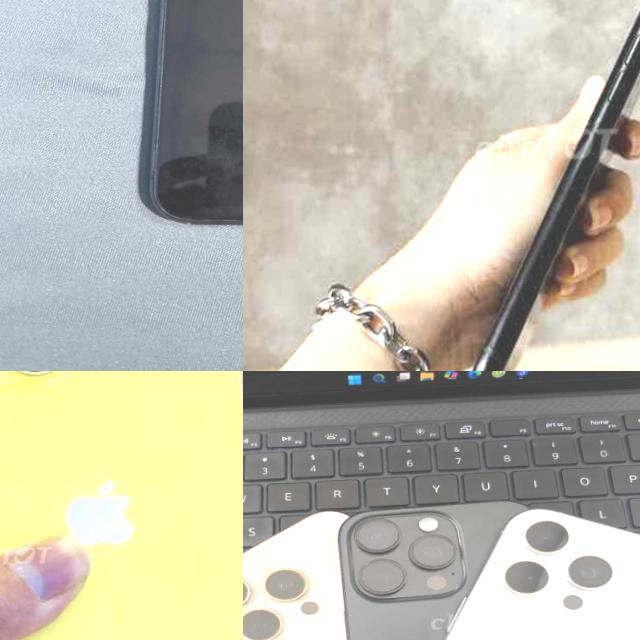gen_11: (121, 0, 243, 241)
gen_14: (0, 371, 243, 640)
gen_16: (353, 502, 640, 640)
gen_x_xs: (459, 0, 640, 371)
